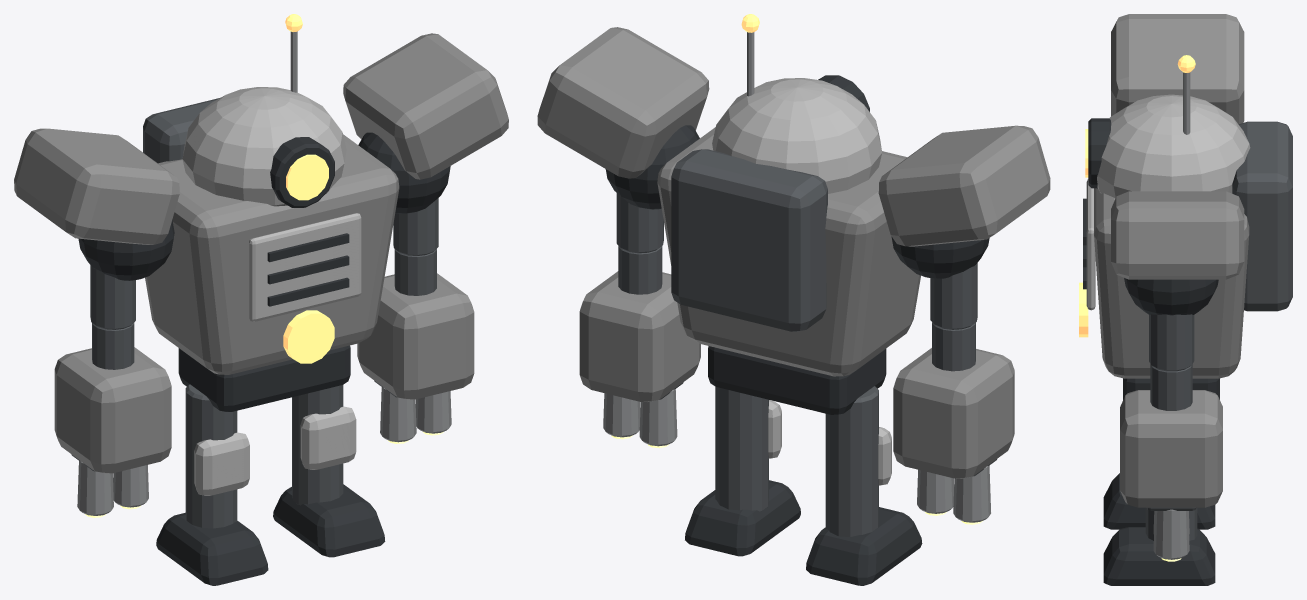
The model's file is colosso.glb.
3 views of the same model, side by side, from view 1: azimuth 30°, elevation 25°; view 2: azimuth 150°, elevation 25°; view 3: azimuth 270°, elevation 25° (orthographic). The views are drawn at different scales.
Visible parts, largest first — view 1: p_30, p_6, p_20, p_23, p_36, p_9, p_31, p_29, p_18, p_4, p_2, p_16 (+21 smaller); view 2: p_42, p_30, p_6, p_20, p_36, p_23, p_9, p_29, p_18, p_4, p_15, p_3 (+14 smaller); view 3: p_36, p_6, p_20, p_9, p_30, p_42, p_4, p_5, p_7, p_18, p_8, arma_canhao_12 (+6 smaller).
Part boxes in pixels (bbox=[...]): p_30: bbox=[145, 134, 399, 374]; p_6: bbox=[343, 33, 508, 179]; p_20: bbox=[14, 128, 179, 244]; p_23: bbox=[54, 347, 171, 473]; p_36: bbox=[182, 87, 346, 206]; p_9: bbox=[357, 273, 474, 399]; p_31: bbox=[249, 213, 361, 321]; p_29: bbox=[178, 345, 350, 411]; p_18: bbox=[156, 512, 268, 585]; p_4: bbox=[273, 484, 385, 557]; p_2: bbox=[300, 406, 356, 469]; p_16: bbox=[194, 432, 249, 495]; p_42: bbox=[671, 149, 827, 331]; p_30: bbox=[657, 127, 920, 376]; p_6: bbox=[537, 27, 709, 178]; p_20: bbox=[878, 125, 1050, 246]; p_36: bbox=[712, 78, 882, 193]; p_23: bbox=[893, 348, 1014, 478]; p_9: bbox=[579, 271, 700, 401]; p_29: bbox=[708, 346, 886, 414]; p_18: bbox=[806, 507, 922, 585]; p_4: bbox=[685, 480, 800, 556]; p_15: bbox=[825, 386, 878, 472]; p_3: bbox=[715, 436, 768, 511]; p_36: bbox=[1097, 94, 1250, 198]; p_6: bbox=[1111, 191, 1244, 279]; p_20: bbox=[1111, 14, 1244, 124]; p_9: bbox=[1120, 390, 1222, 507]; p_30: bbox=[1094, 188, 1249, 378]; p_42: bbox=[1232, 121, 1292, 311]; p_4: bbox=[1103, 527, 1215, 585]; p_5: bbox=[1124, 278, 1218, 315]; p_7: bbox=[1149, 314, 1194, 371]; p_18: bbox=[1103, 473, 1215, 529]; p_8: bbox=[1150, 364, 1192, 410]; arma_canhao_12: bbox=[1153, 509, 1189, 559].
Size of the model in its own units: 2.86 by 3.18 by 1.21.
